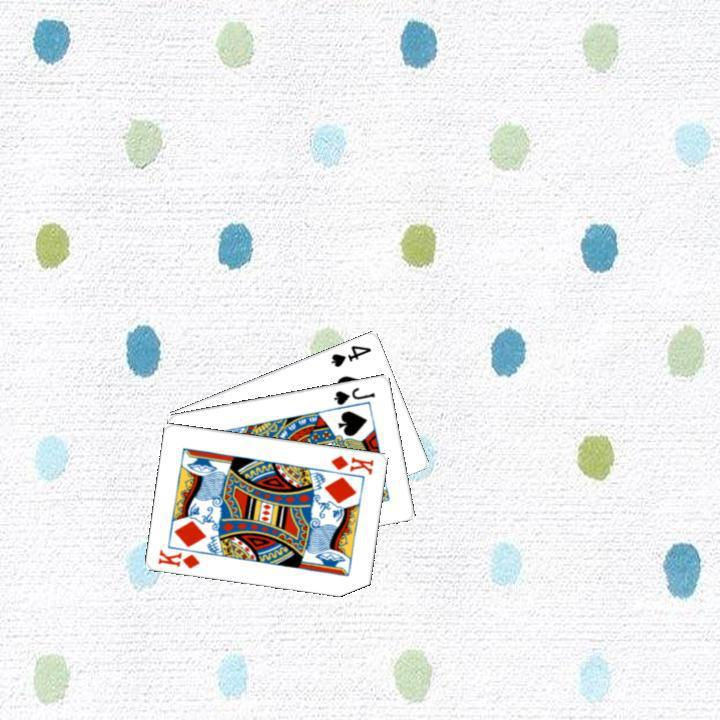4: (327, 340, 373, 369)
J: (329, 382, 377, 407)
K: (327, 451, 376, 476), (154, 545, 202, 570)
